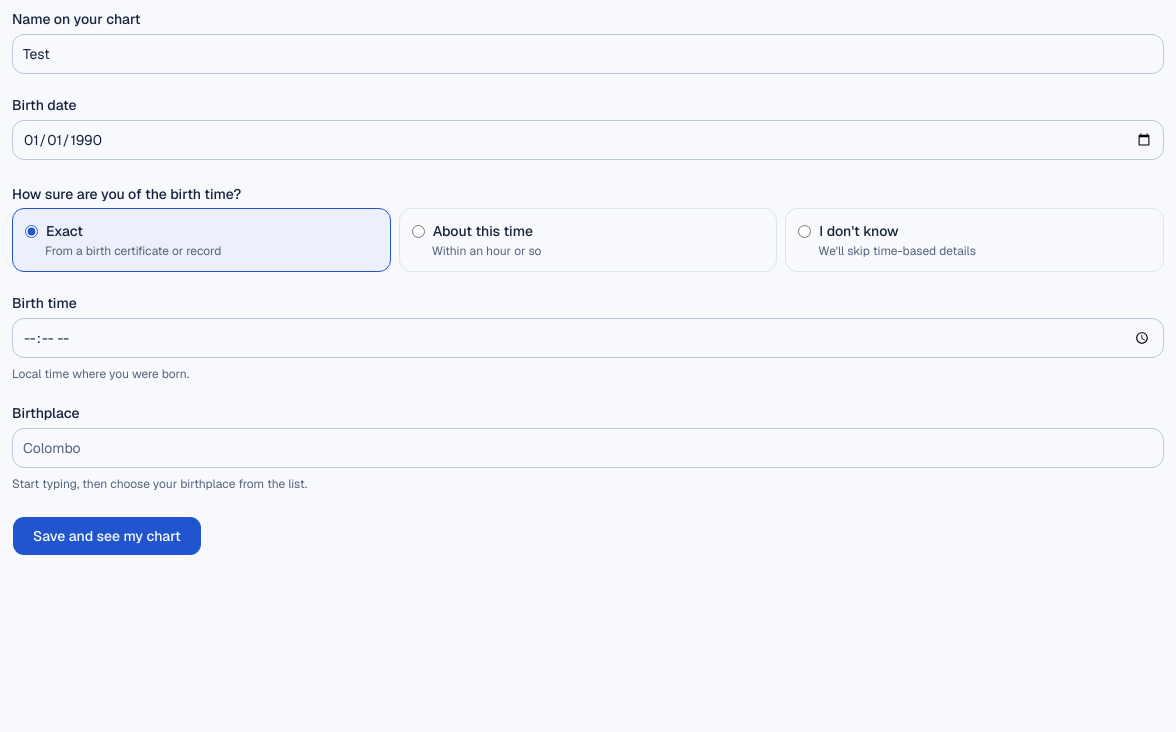
Scenario: BirthDetailsForm birth time › keeps the typed time when the accuracy changes
In the time field labelled "Birth time": (588, 338) [12,318,1164,358], type "14:30"
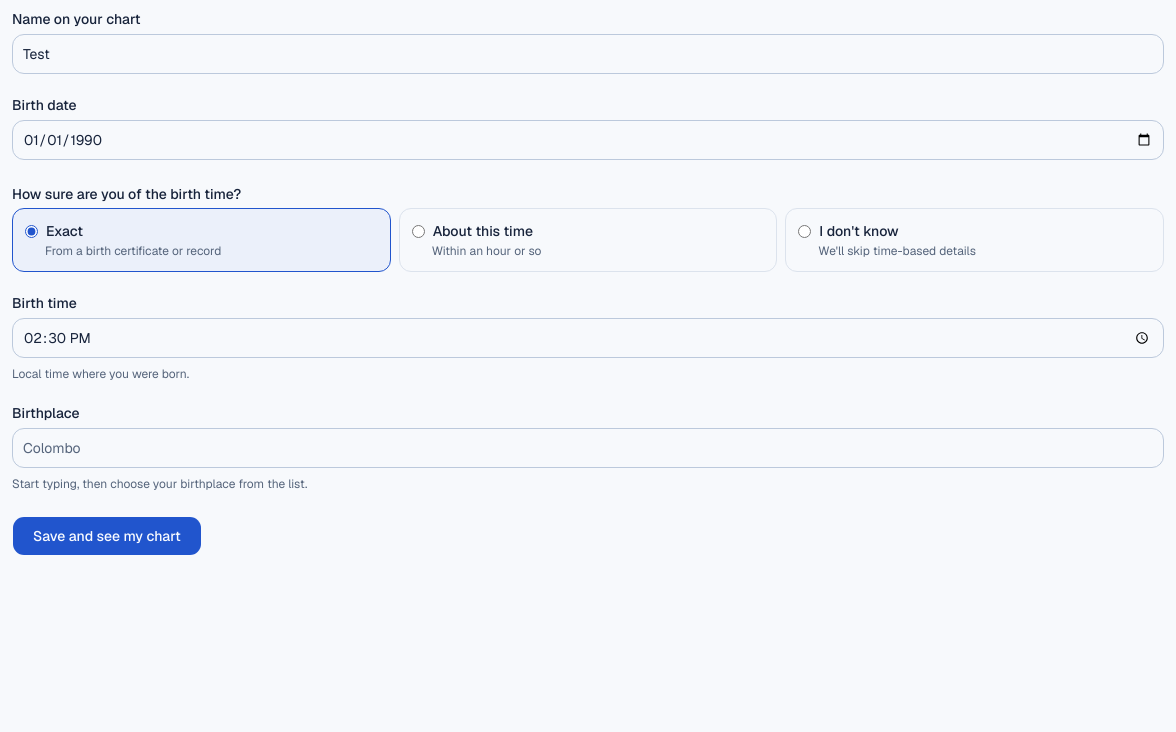
Click the radio button labelled "About this time Within an hour or so": (418, 231) [412,224,425,238]
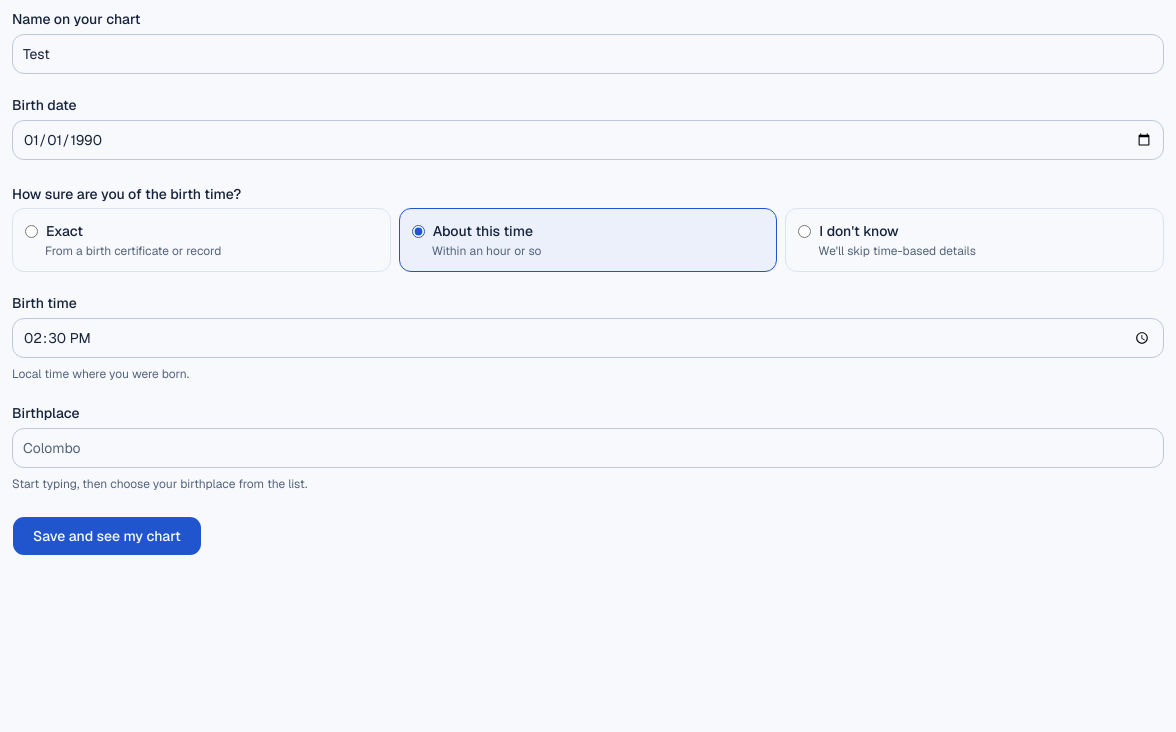
Click the radio button labelled "I don't know We'll skip time-based details": (805, 231) [798,224,811,238]
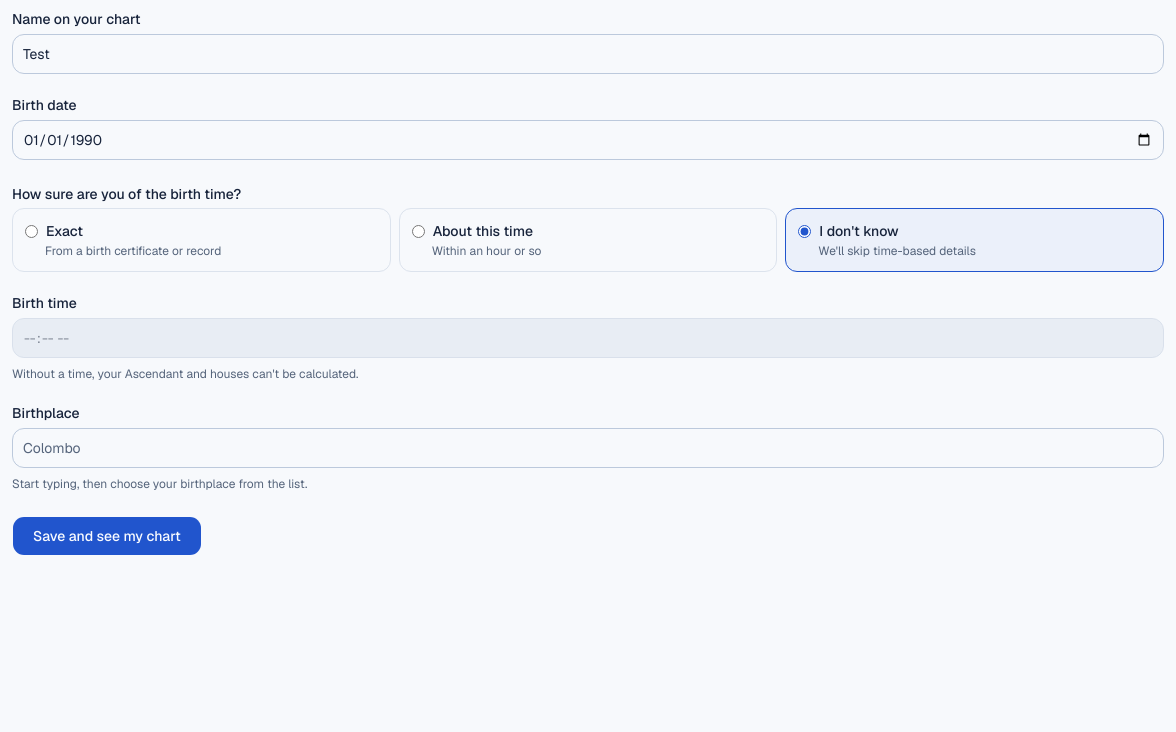
Expected: the time field labelled "Birth time" is disabled, [12,318,1164,358]
Click the radio button labelled "Exact From a birth certificate or record": (32, 231) [25,224,38,238]
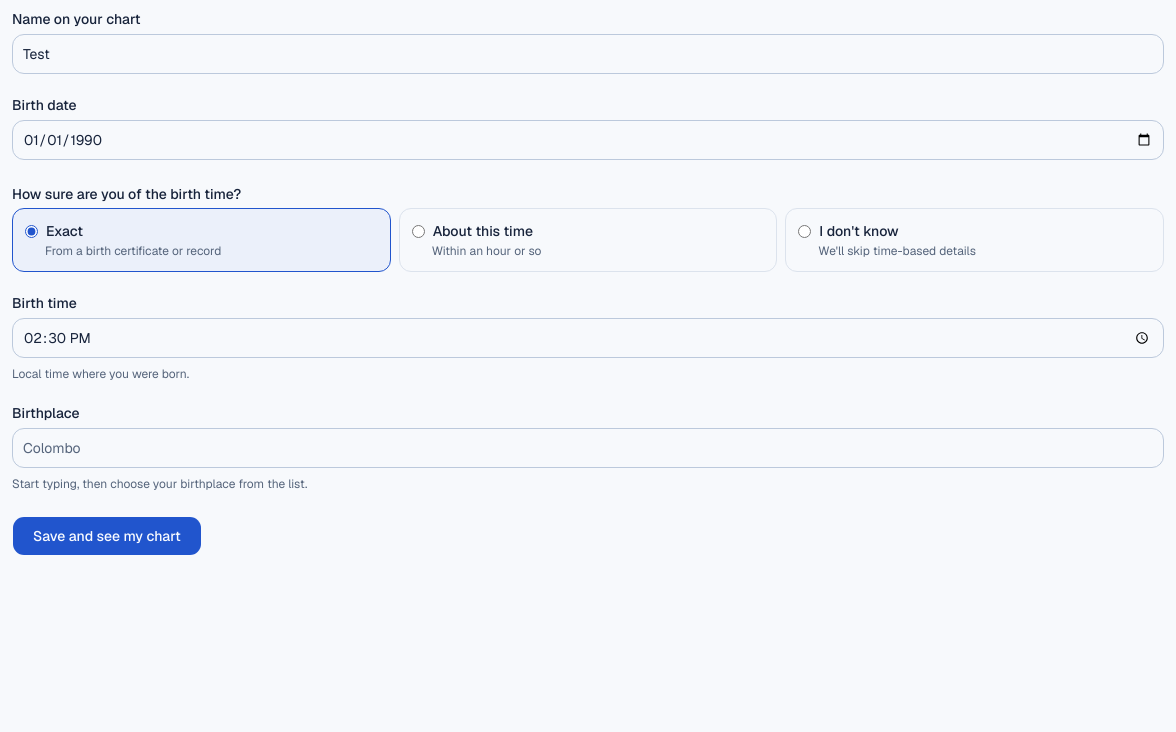
Expected: the time field labelled "Birth time" is enabled, [12,318,1164,358]
